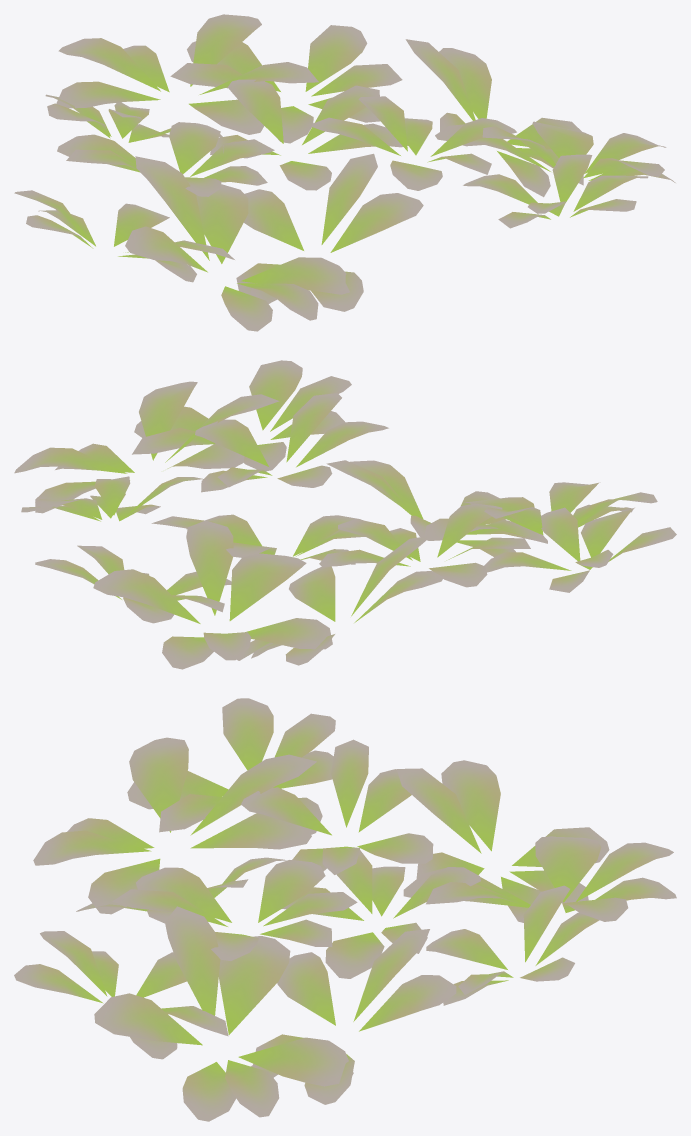
File: SM_plantpack_A_LOD1.FBX
3 renders of one model, top to bottom at view 1: azimuth 30°, elevation 25°; view 2: azimuth 150°, elevation 25°; view 3: azimuth 270°, elevation 25°, orthographic. The views are drawn at different scales.
Parts seen in each view (by area): view 1: SM_plantpack_A_LOD1; view 2: SM_plantpack_A_LOD1; view 3: SM_plantpack_A_LOD1.
Boxes of the visible parts, x1,y1,x2,y2 form: SM_plantpack_A_LOD1: [14, 14, 675, 331]; SM_plantpack_A_LOD1: [14, 360, 676, 669]; SM_plantpack_A_LOD1: [14, 698, 676, 1121].
Bounding box in the file's own units: 385 × 66.02 × 327.
Materials: 1 (1 with a texture image).
